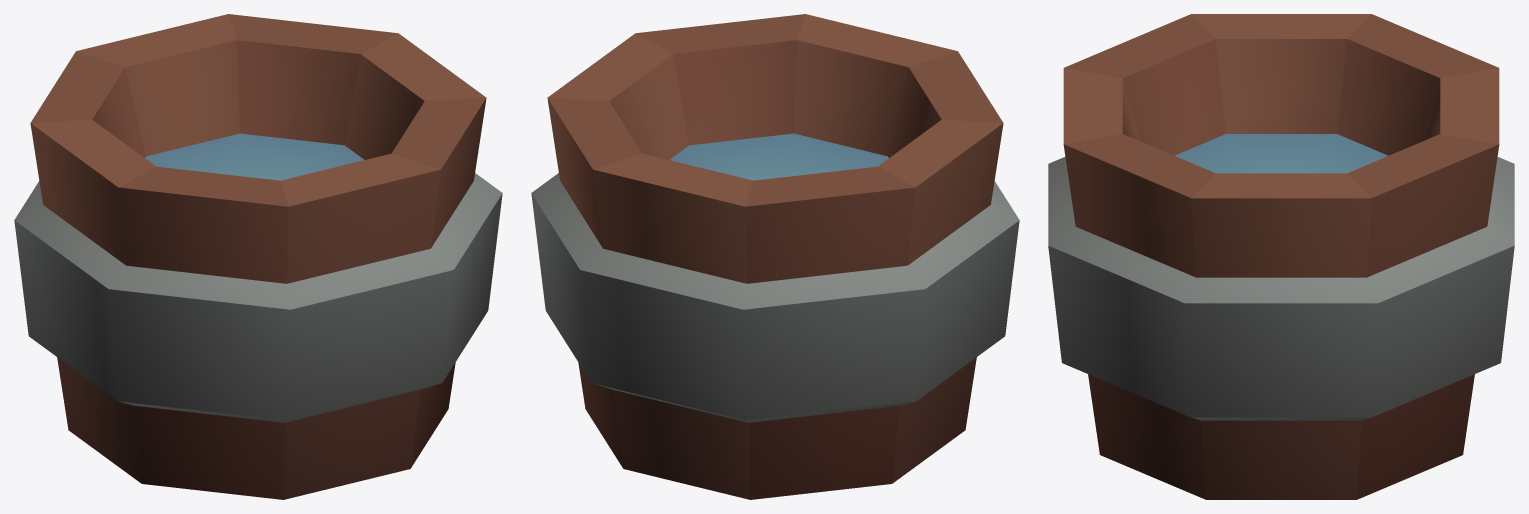
The model's file is bucket-water.glb.
3 views of the same model, side by side, from view 1: azimuth 30°, elevation 25°; view 2: azimuth 150°, elevation 25°; view 3: azimuth 270°, elevation 25° (orthographic). The views are drawn at different scales.
Visible parts, largest first — view 1: bucket-water; view 2: bucket-water; view 3: bucket-water.
Part boxes in pixels (x1,y1,x2,y2): bucket-water: (14,14,502,499); bucket-water: (531,14,1019,499); bucket-water: (1048,14,1514,499).
Size of the model in its own units: 0.4667 by 0.35 by 0.4667.
